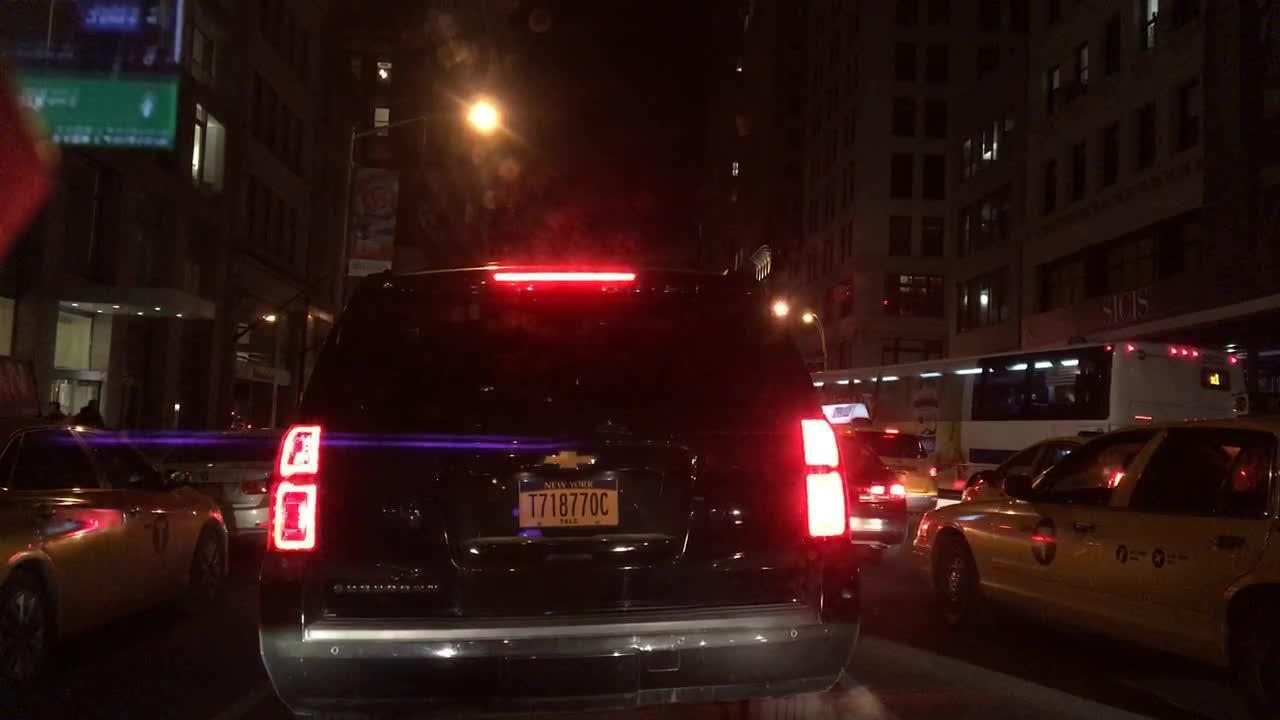chevrolet: (542, 444, 599, 477)
